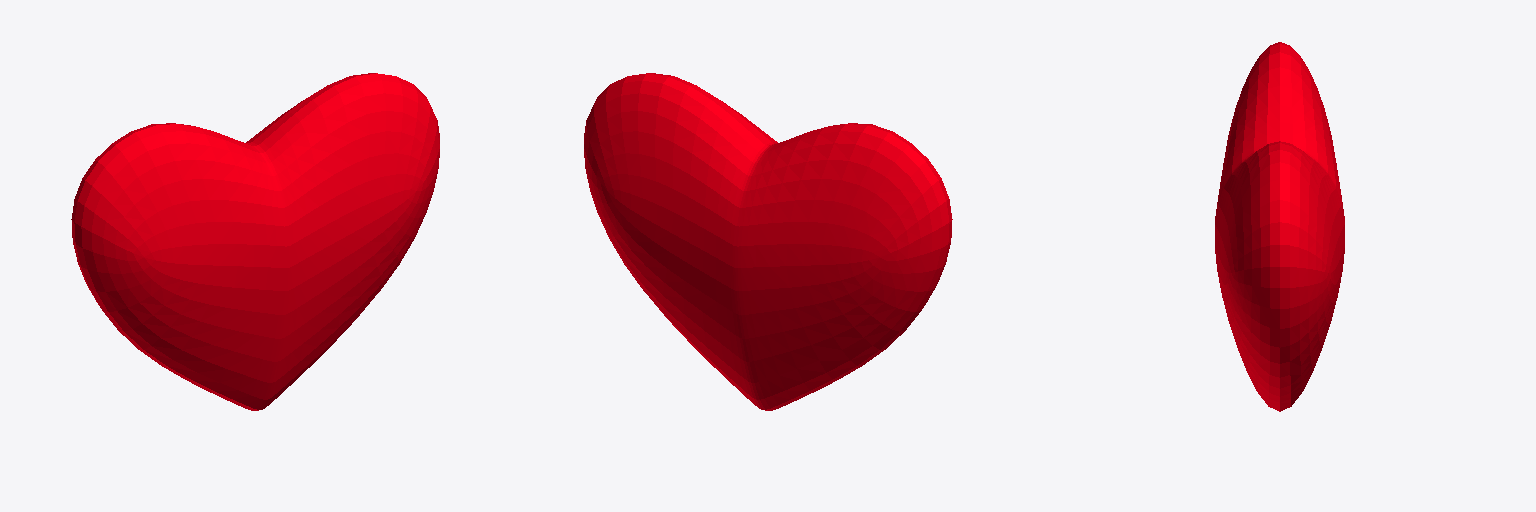
The model's file is heart.obj.
The picture shows the model from 3 angles: view 1: azimuth 30°, elevation 25°; view 2: azimuth 150°, elevation 25°; view 3: azimuth 270°, elevation 25°; orthographic projection.
Parts seen in each view (by area): view 1: Circle; view 2: Circle; view 3: Circle.
Part boxes in pixels (bbox=[...]): Circle: bbox=[71, 73, 439, 410]; Circle: bbox=[584, 73, 952, 410]; Circle: bbox=[1215, 42, 1344, 411].
Size of the model in its own units: 0.4485 by 0.366 by 0.1399.